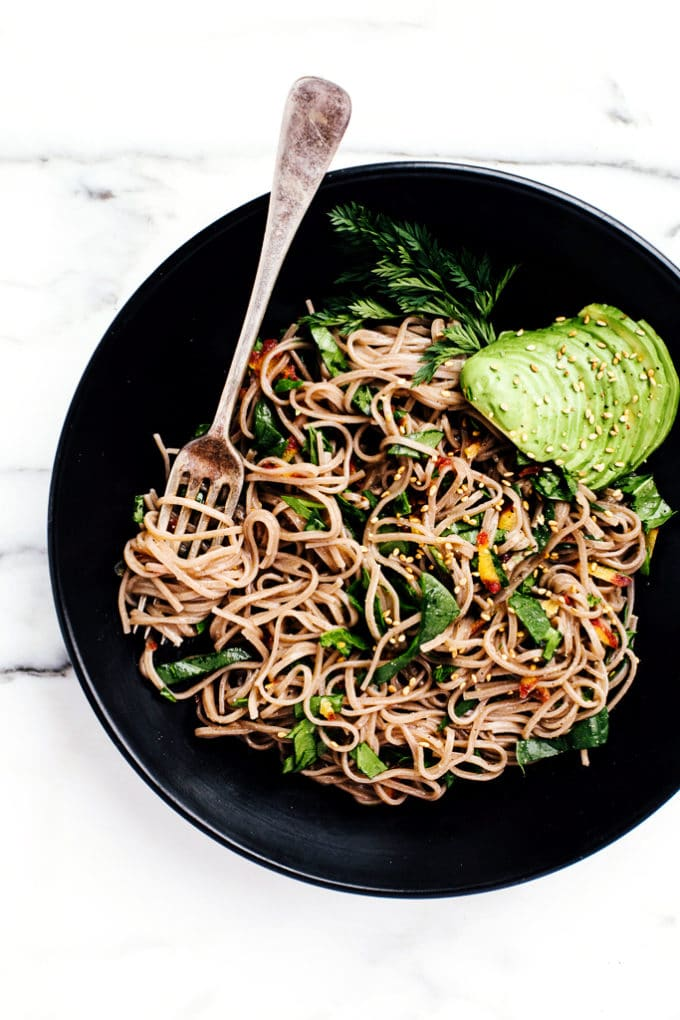Soba: (139, 327, 665, 830)
